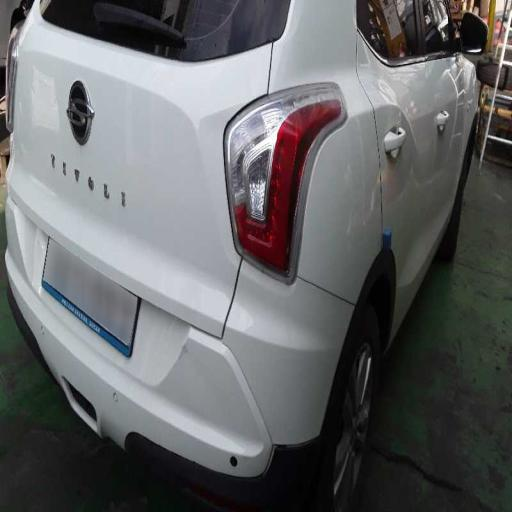dent: (177, 80, 370, 348)
